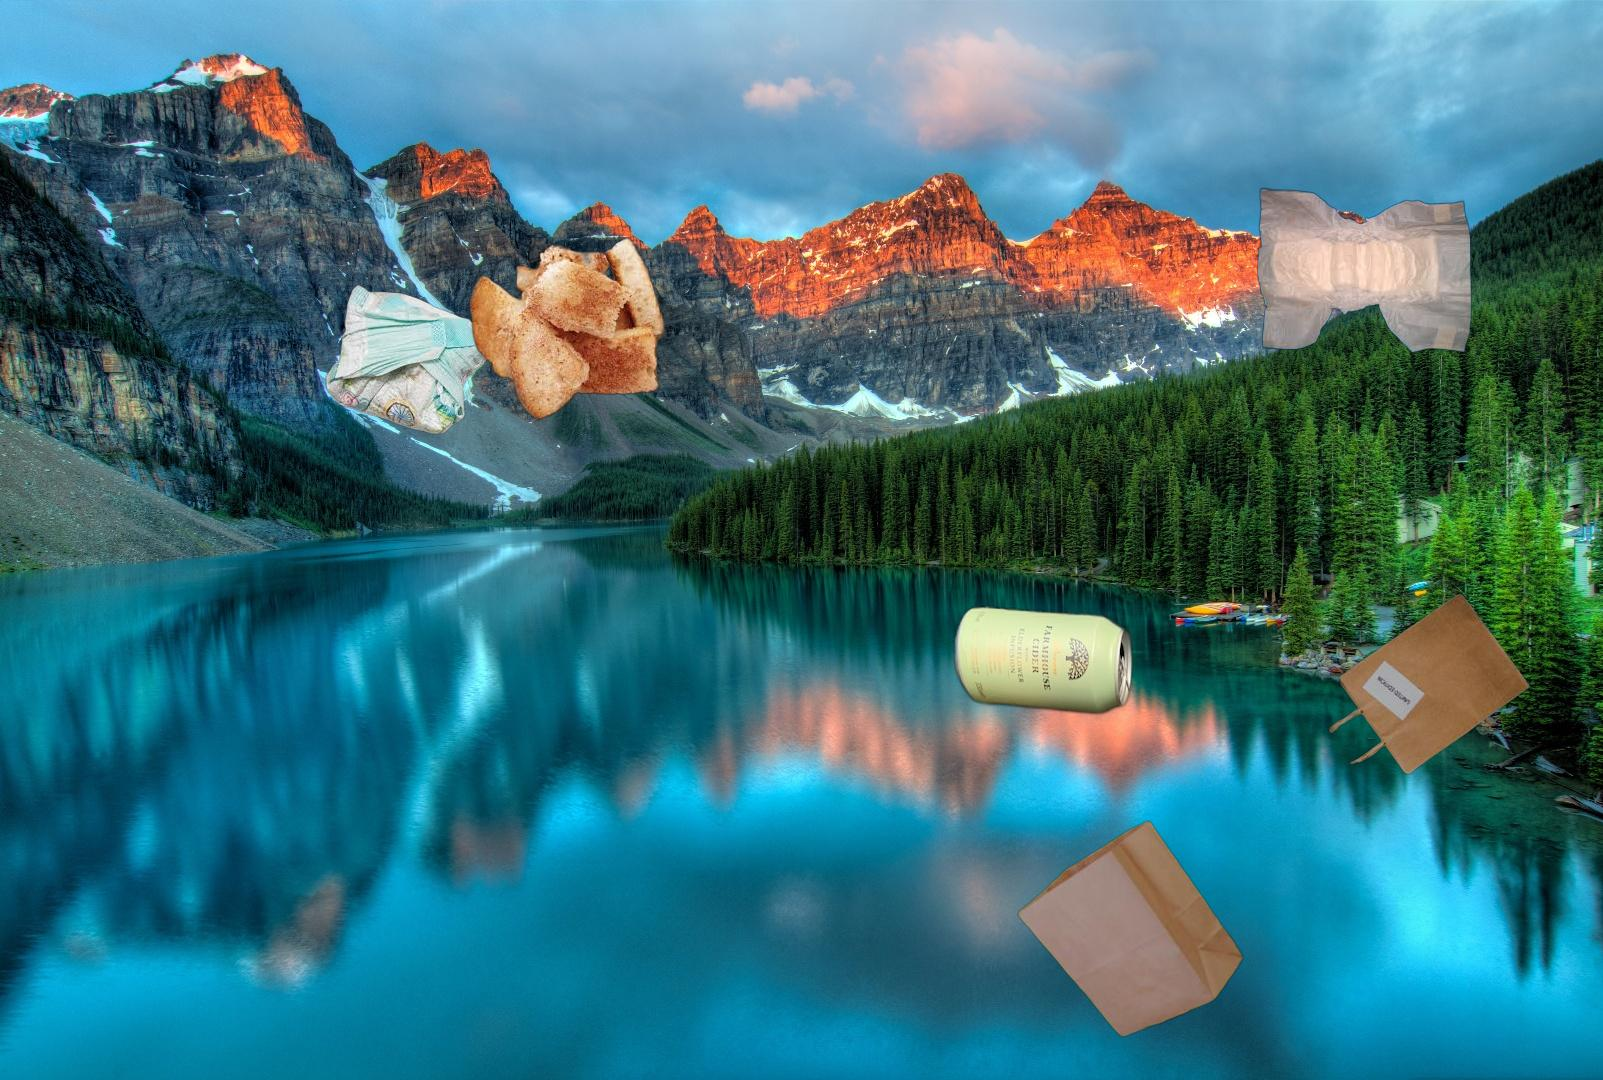biological: (466, 227, 670, 423)
metal-cans: (949, 550, 1443, 1080)
paper-bag: (1280, 592, 1532, 833), (1015, 818, 1245, 1040)
trash: (1255, 184, 1474, 360), (323, 282, 499, 438)
